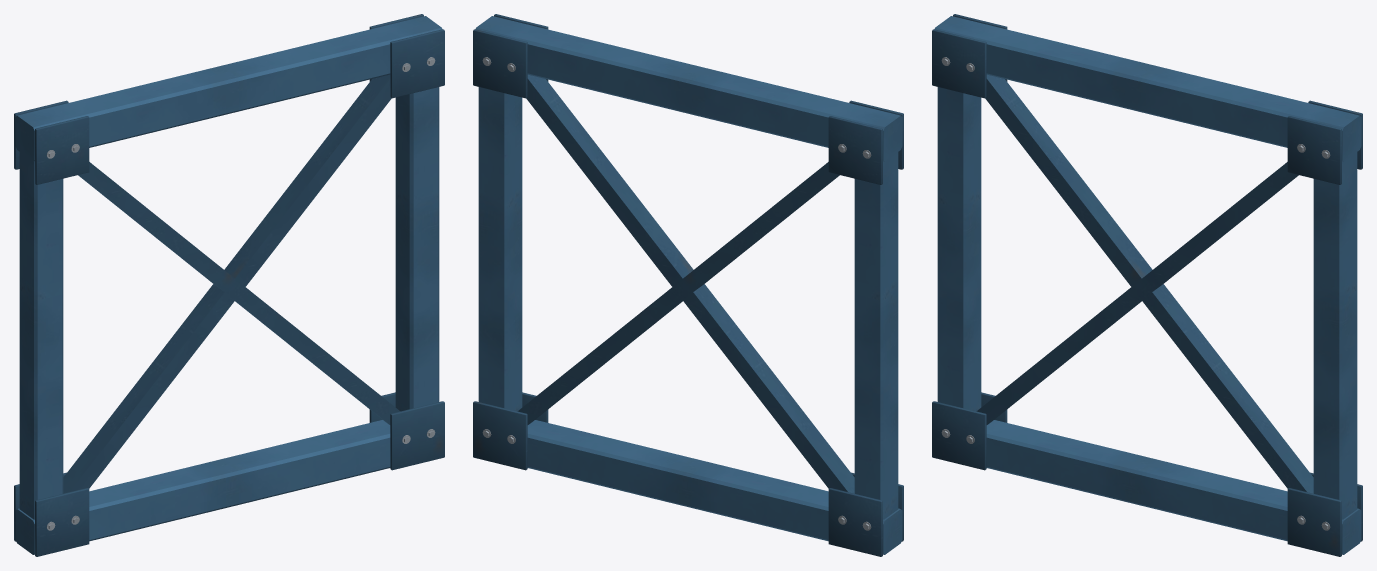
The model's file is support_truss_small.glb.
3 views of the same model, side by side, from view 1: azimuth 30°, elevation 25°; view 2: azimuth 150°, elevation 25°; view 3: azimuth 330°, elevation 25° (orthographic).
Parts seen in each view (by area): view 1: Body.005; view 2: Body.005; view 3: Body.005.
Boxes of the visible parts, x1,y1,x2,y2 form: Body.005: (14, 14, 444, 556); Body.005: (473, 14, 903, 556); Body.005: (932, 14, 1362, 556).
Bounding box in the file's own units: 0.997 × 0.997 × 0.1072.
3 materials, 3 textured.
